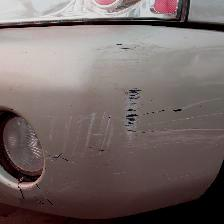bumper_scratch: (113, 34, 203, 174), (45, 111, 111, 163)
